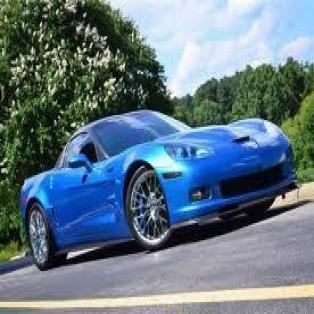Auto: (21, 110, 298, 266)
